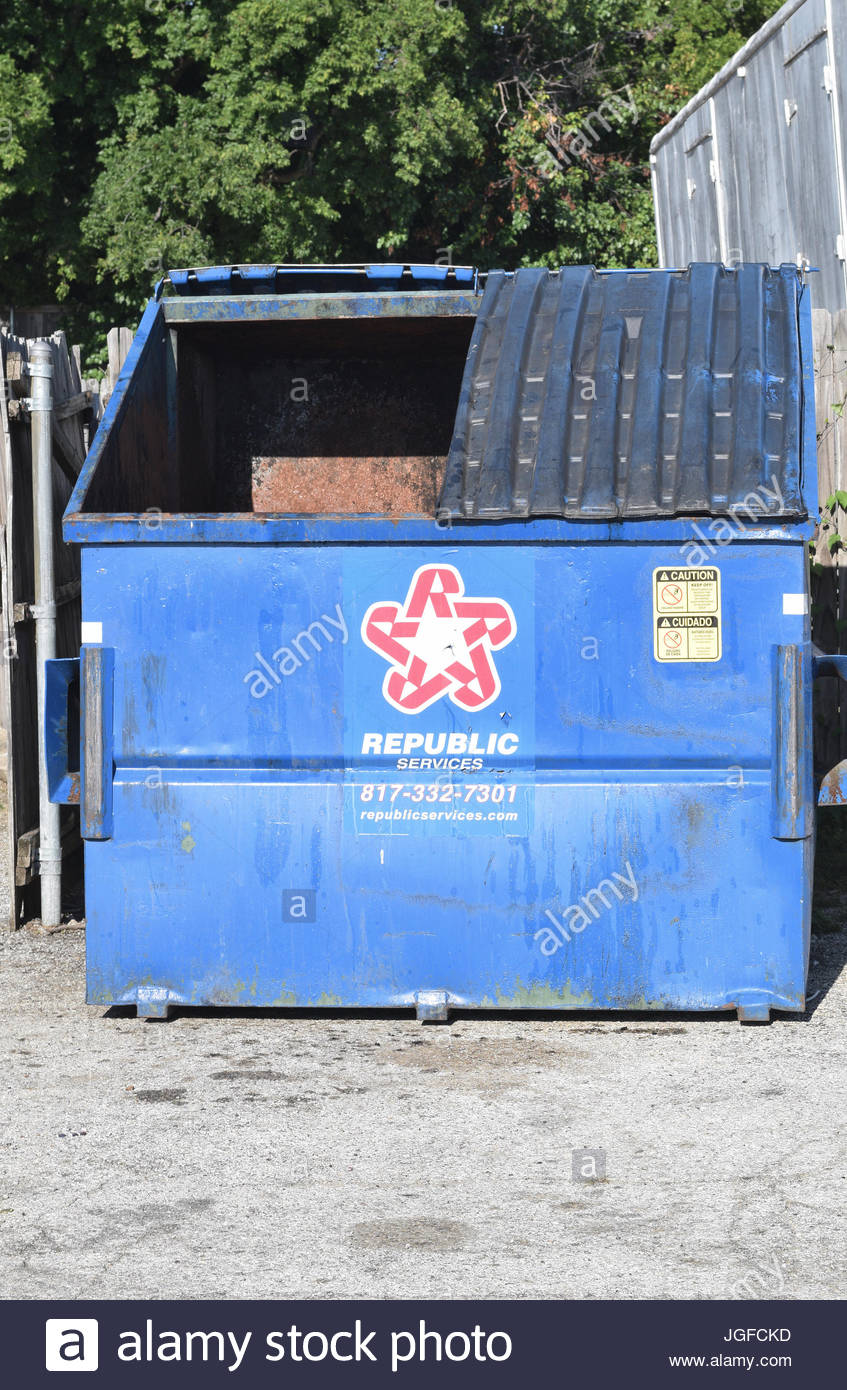Dumpster: (28, 245, 847, 1040)
